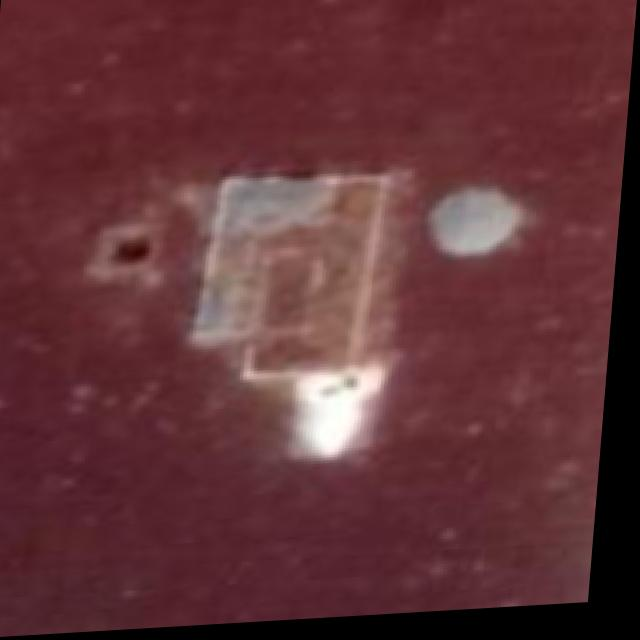Batiment: (196, 179, 407, 463)
